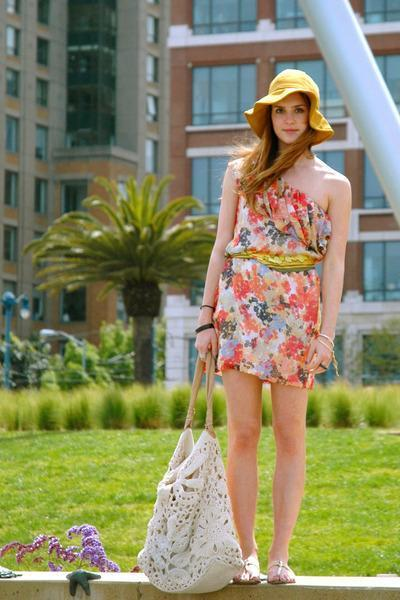bag: (132, 337, 249, 592)
dress: (204, 180, 336, 378)
hat: (256, 69, 332, 131)
